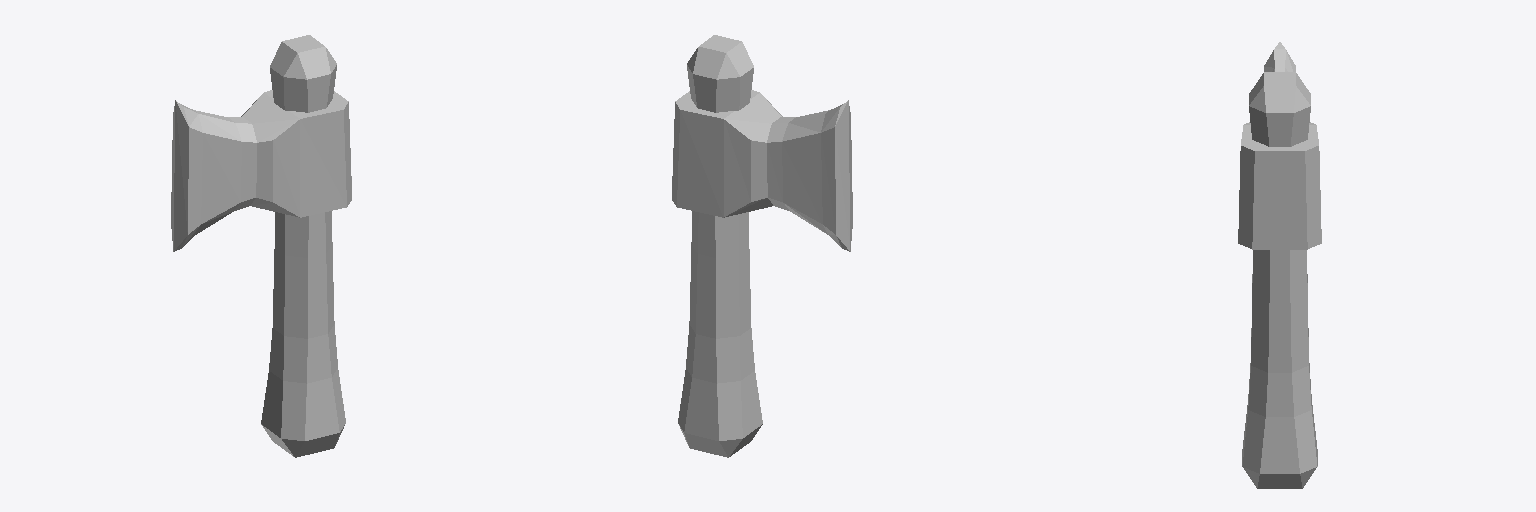
Rendered from Axe_Wood.obj.
3 views of the same model, side by side, from view 1: azimuth 30°, elevation 25°; view 2: azimuth 150°, elevation 25°; view 3: azimuth 270°, elevation 25° (orthographic).
Visible parts, largest first — view 1: Axe_Wood_Cube.034; view 2: Axe_Wood_Cube.034; view 3: Axe_Wood_Cube.034.
Part boxes in pixels (x1,y1,x2,y2): Axe_Wood_Cube.034: (171,35,351,457); Axe_Wood_Cube.034: (672,35,852,457); Axe_Wood_Cube.034: (1238,42,1321,488).
Bounding box in the file's own units: 0.7377 × 1.71 × 0.3243.